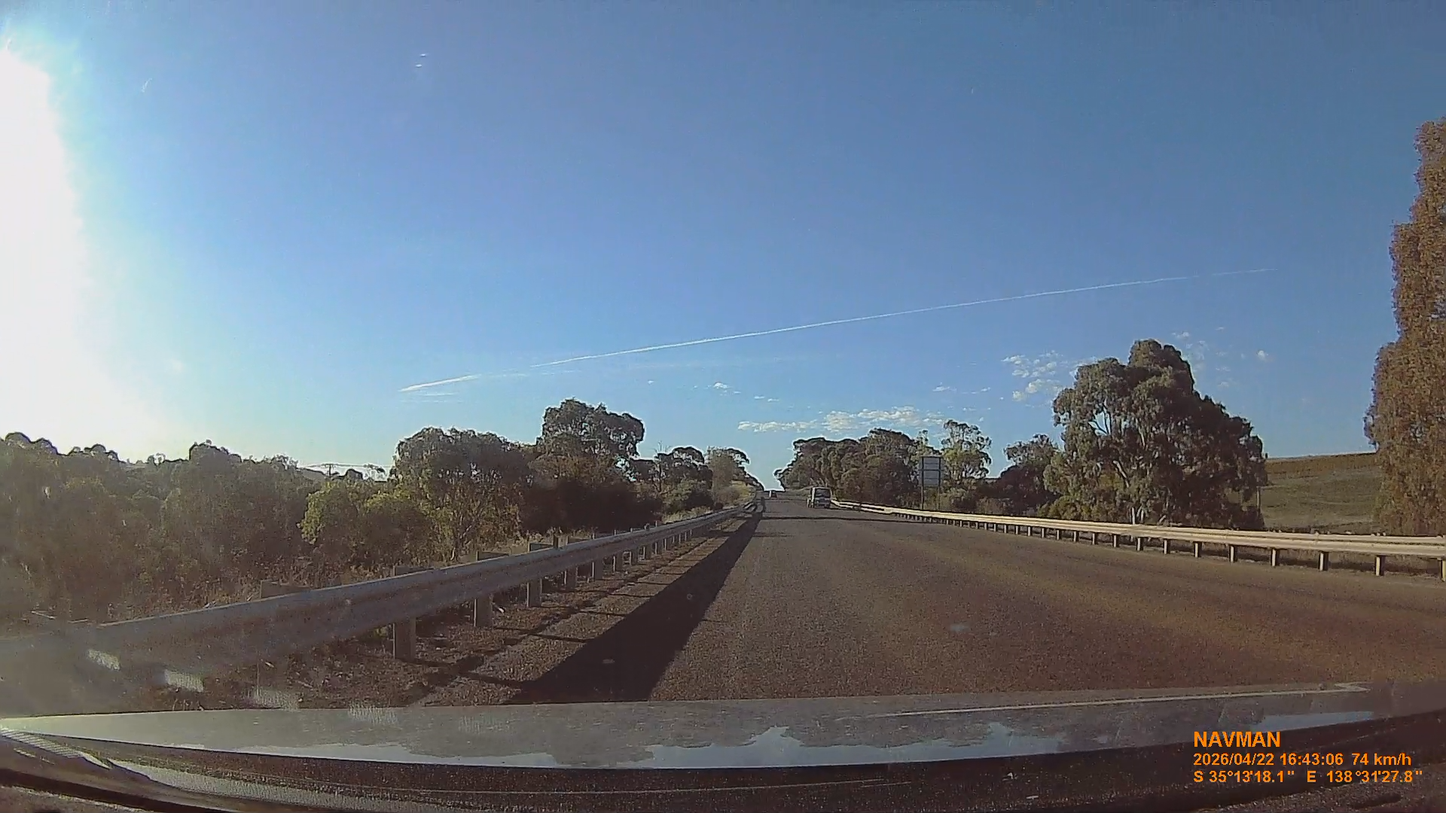road barriers: (0, 507, 763, 714), (838, 502, 1445, 582)
